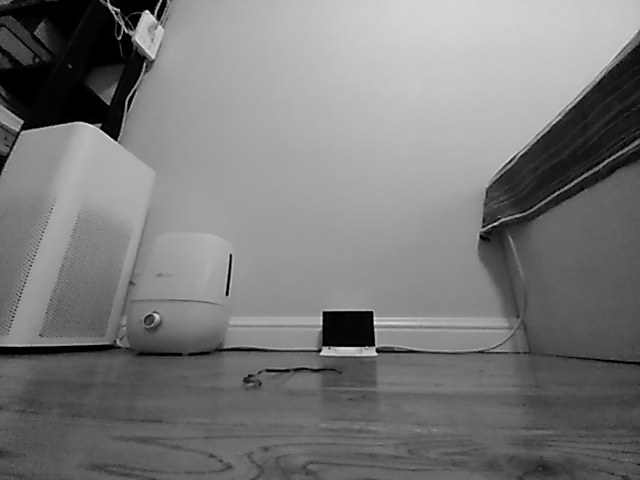TanosV: (318, 309, 381, 358)
wire: (381, 268, 530, 357)
